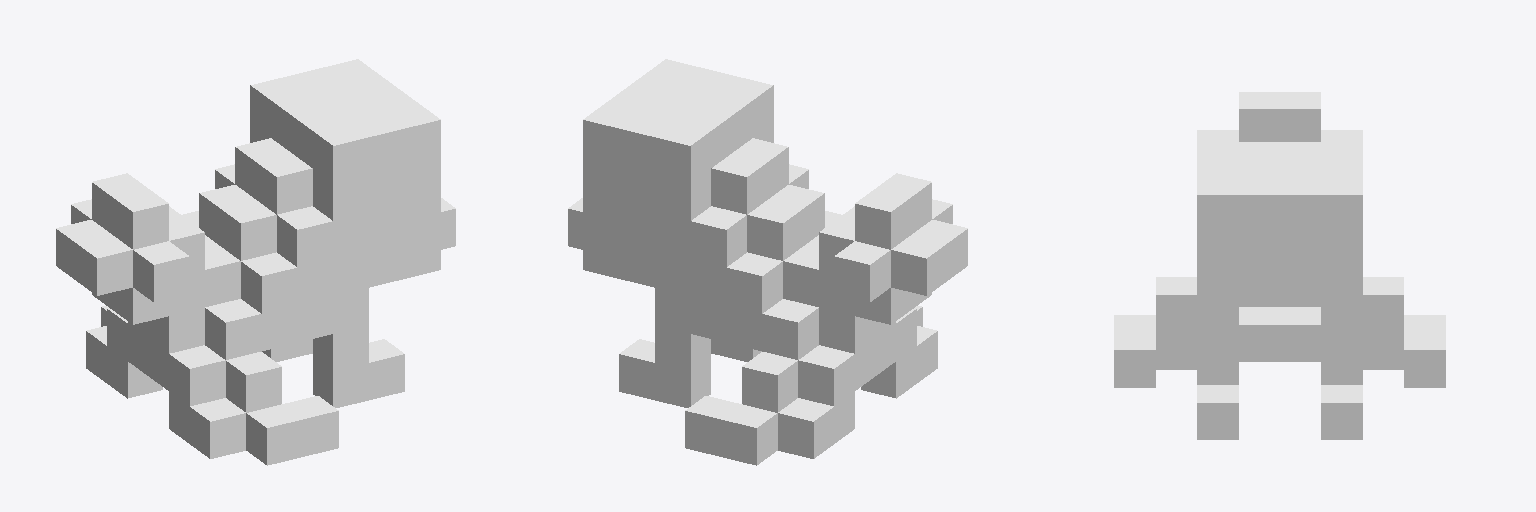
Rendered from Bunny-V2.obj.
3 renders of one model, left to right at view 1: azimuth 30°, elevation 25°; view 2: azimuth 150°, elevation 25°; view 3: azimuth 270°, elevation 25°, orthographic.
Visible parts, largest first — view 1: object 1; view 2: object 1; view 3: object 1.
Part boxes in pixels (x1,y1,x2,y2): object 1: (56,59,455,465); object 1: (568,59,967,465); object 1: (1114,92,1445,439).
Size of the model in its own units: 1 by 0.7 by 0.8.